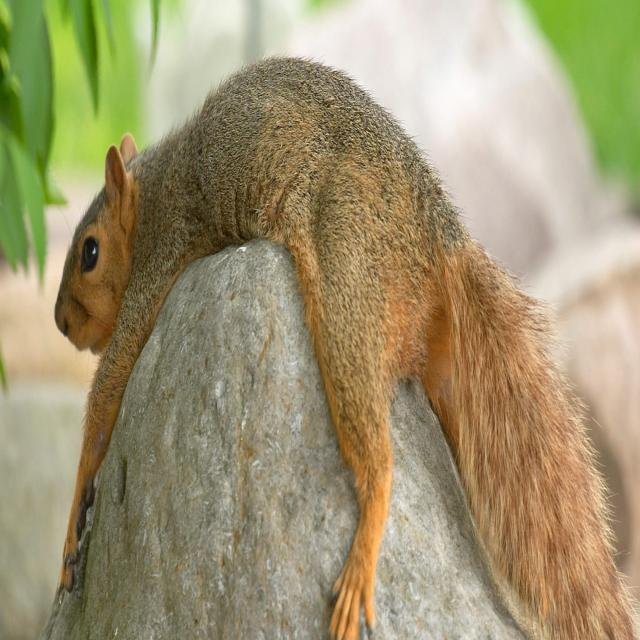Squirrel: (55, 58, 634, 636)
